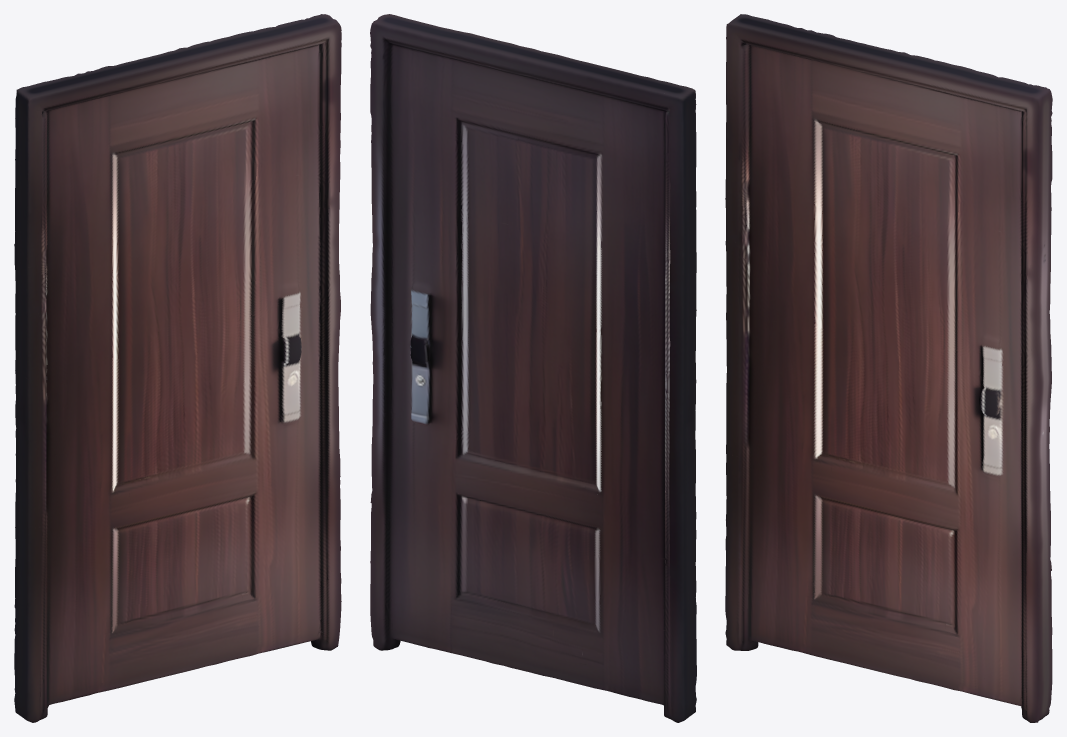
The model's file is 入户门 (3) 1.fbx.
3 views of the same model, side by side, from view 1: azimuth 30°, elevation 25°; view 2: azimuth 150°, elevation 25°; view 3: azimuth 330°, elevation 25° (orthographic).
Visible parts, largest first — view 1: model; view 2: model; view 3: model.
Part boxes in pixels (x1,y1,x2,y2): model: [14, 14, 341, 722]; model: [370, 14, 696, 722]; model: [725, 14, 1052, 722].
Bounding box in the file's own units: 93.61 × 179 × 7.89.
